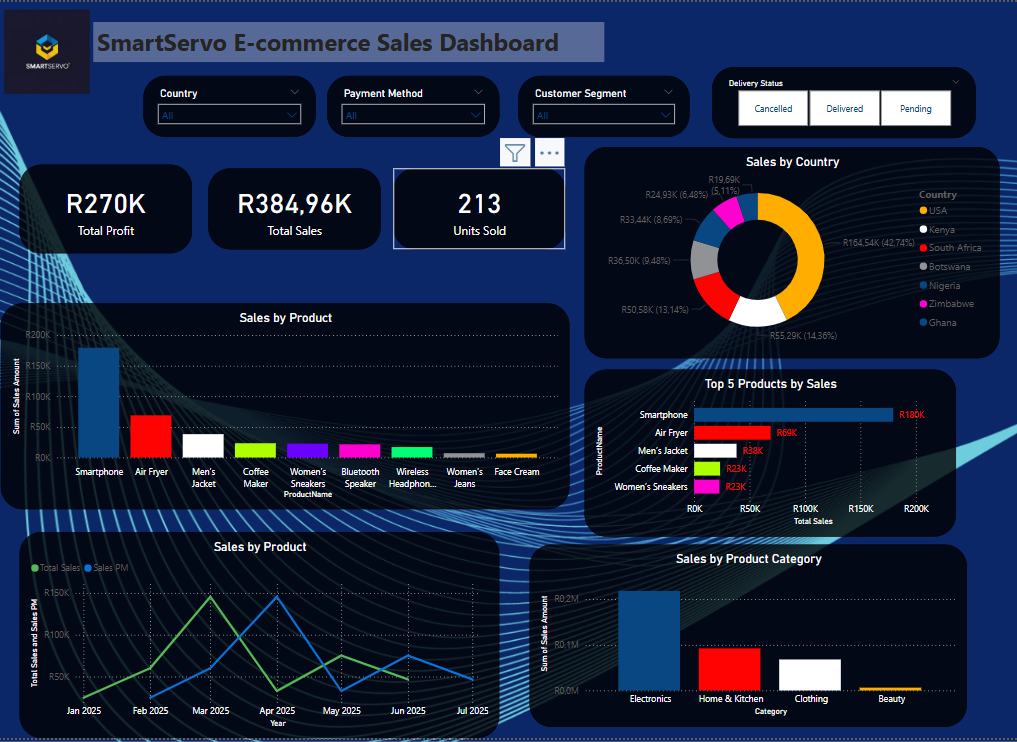

This screenshot's page, from the dashboard's own definition file:
{"tool":"powerbi","page":{"name":"Page 1","canvas":[1400,1000],"ordinal":0},"visuals":[{"type":"clusteredColumnChart","title":"Sales by Product","fields":{"Y":["Sum(FactTable.Sales Amount)"],"Category":["DimProduct.ProductName"]},"box":[5.1,409.3,772.8,280.2],"z":0},{"type":"clusteredColumnChart","title":"Sales by Product Category","fields":{"Category":["DimProduct.Category"],"Y":["Sum(FactTable.Sales Amount)"]},"box":[723.5,737.1,594.4,248],"z":1000},{"type":"barChart","title":"Top 5 Products by Sales","fields":{"Y":["SalesCalculations.Total Sales"],"Category":["DimProduct.ProductName"]},"box":[798.2,499.3,504.4,227.6],"z":2000},{"type":"lineChart","title":"Sales by Product","fields":{"Category":["DimDate.Date.Variation.Date Hierarchy.Year","DimDate.Date.Variation.Date Hierarchy.Month"],"Y":["SalesCalculations.Total Sales","SalesCalculations.Sales PM"]},"box":[30.6,720.1,652.2,280.2],"z":3000},{"type":"slicer","fields":{"Values":["DimCustomer.Country"]},"box":[198.7,100.2,234.4,83.2],"z":4000},{"type":"slicer","fields":{"Values":["FactTable.Delivery Status"]},"box":[971.5,88.3,358.4,96.8],"z":5000},{"type":"slicer","fields":{"Values":["FactTable.Payment Method"]},"box":[448.4,100.2,234.4,83.2],"z":6000},{"type":"slicer","fields":{"Values":["FactTable.Customer Segment"]},"box":[708.2,100.2,232.7,83.2],"z":7000},{"type":"card","title":"Sales by Product","fields":{"Values":["SalesCalculations.Total Sales"]},"box":[287,225.9,234.4,110.4],"z":8000},{"type":"card","title":"Sales by Product","fields":{"Values":["Sum(FactTable.Profit)"]},"box":[30.6,220.8,234.4,120.6],"z":9000},{"type":"textbox","box":[130.8,27.2,694.6,54.3],"z":10000},{"type":"donutChart","title":"Sales by Country","fields":{"Category":["DimCustomer.Country"],"Y":["Sum(FactTable.Sales Amount)"]},"box":[798.2,197,563.9,287],"z":11000},{"type":"image","box":[5.1,0,125.7,135.9],"z":12000},{"type":"card","title":"Sales by Product","fields":{"Values":["Sum(FactTable.Quantity)"]},"box":[538.4,225.9,234.4,110.4],"z":13000}]}

Visuals, with their boxes in screenshot pixels (x1, y1, x2, y2), scaled from the page's 1400x1000 canvas onto the 1017x742 screenshot:
"Sales by Product" clusteredColumnChart: 4:304:565:512
"Sales by Product Category" clusteredColumnChart: 526:547:957:731
"Top 5 Products by Sales" barChart: 580:370:946:539
"Sales by Product" lineChart: 22:534:496:741
slicer - DimCustomer.Country: 144:74:315:136
slicer - FactTable.Delivery Status: 706:66:966:137
slicer - FactTable.Payment Method: 326:74:496:136
slicer - FactTable.Customer Segment: 514:74:683:136
"Sales by Product" card: 208:168:379:250
"Sales by Product" card: 22:164:193:253
textbox: 95:20:600:60
"Sales by Country" donutChart: 580:146:989:359
image: 4:0:95:101
"Sales by Product" card: 391:168:561:250
